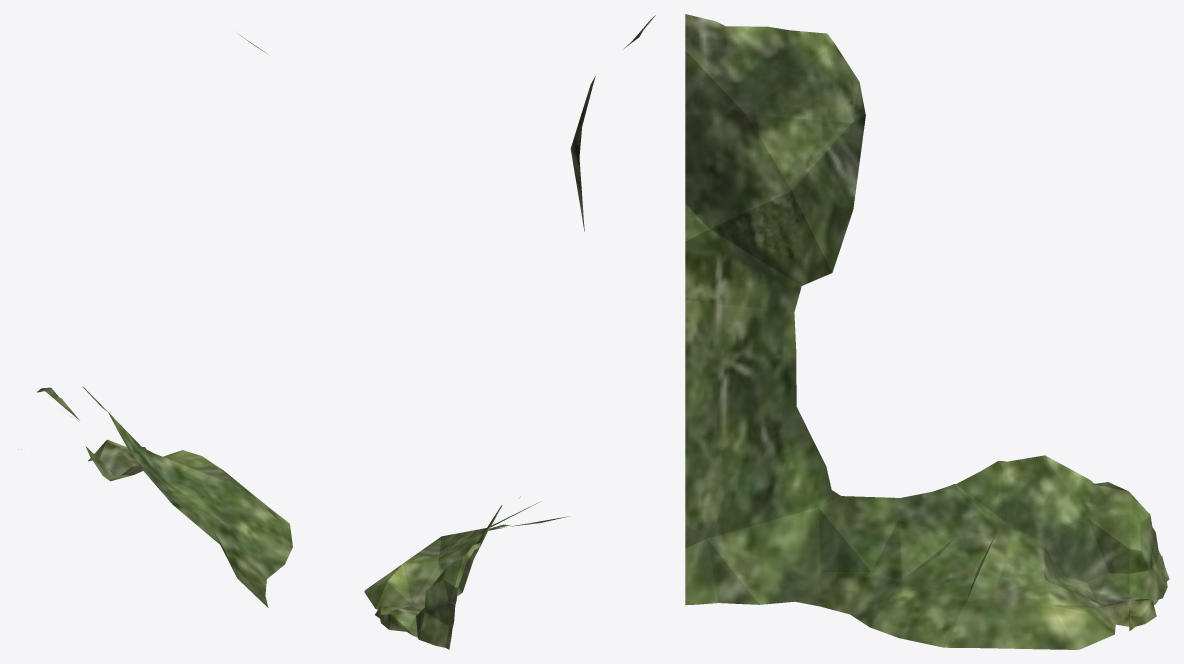
3 renders of one model, left to right at view 1: azimuth 30°, elevation 25°; view 2: azimuth 150°, elevation 25°; view 3: azimuth 270°, elevation 25°, orthographic. The views are drawn at different scales.
Size of the model in its own units: 0.6109 by 2.27 by 1.76.
1 material, 1 textured.
